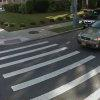Crosswalk: (2, 45, 92, 100)
